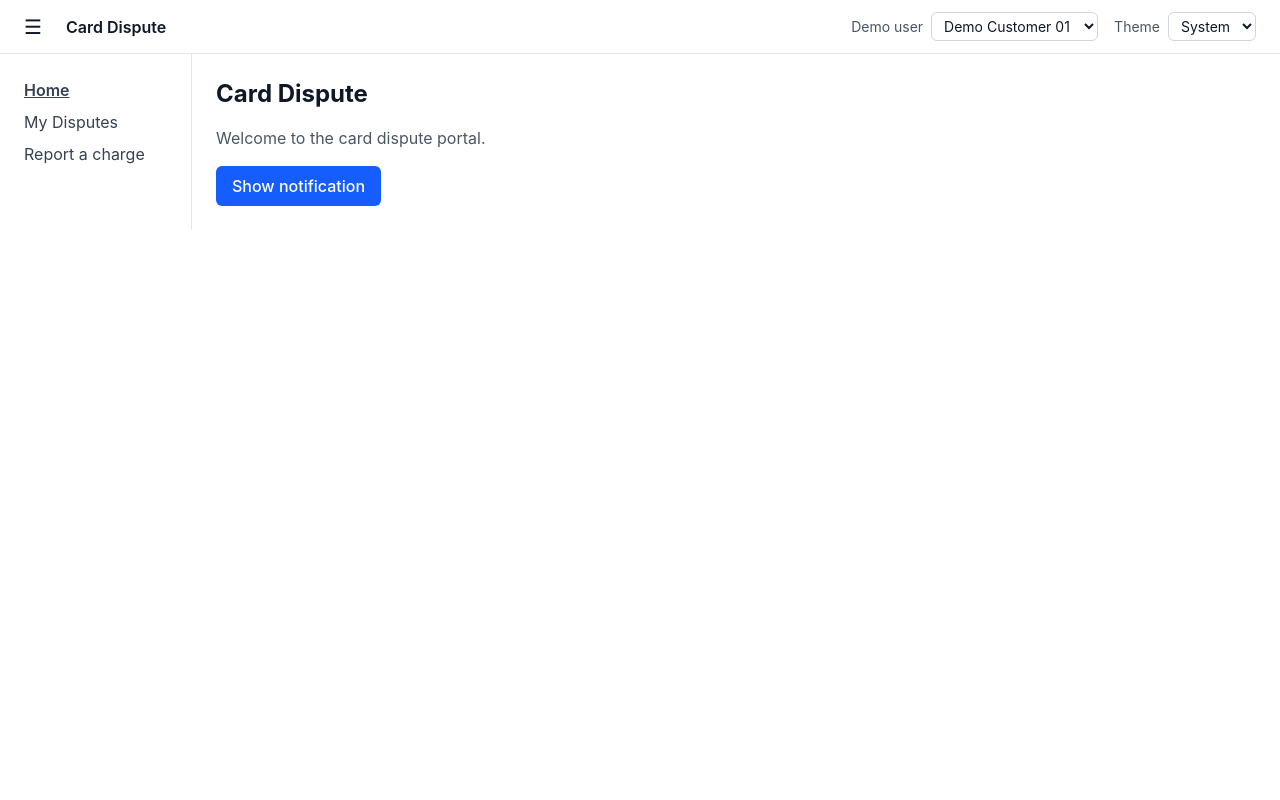
it: layout state › shows and dismisses a notification
The image size is (1280, 800).
What coordinates should you click on to do the following:
click the button "Show notification"
I would click on:
 (298, 186)
Its box is [216, 166, 381, 206].
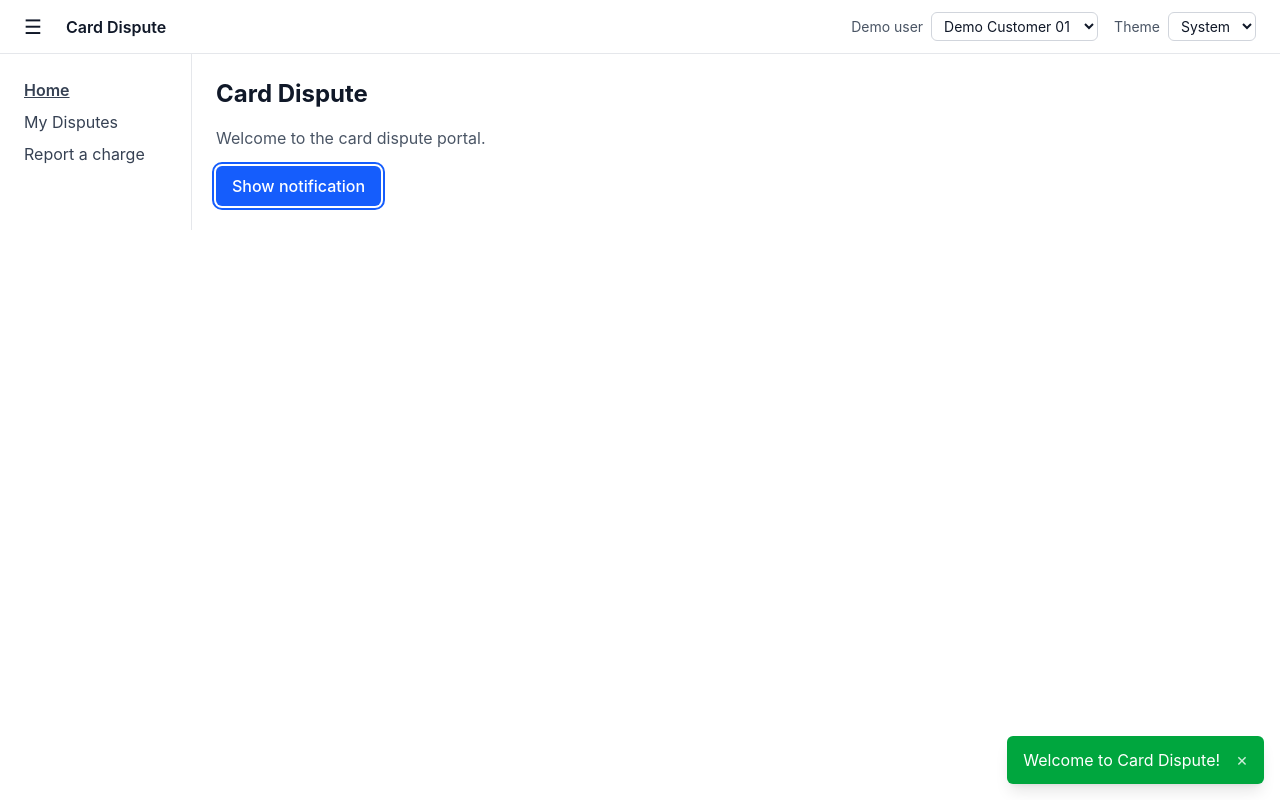
Result: the message shows "Welcome to Card Dispute!" at [1023, 750, 1220, 770]
What coordinates should you click on to do the following:
click the button named "Dismiss notification"
I would click on:
 (1242, 760)
Its box is [1236, 751, 1248, 769].
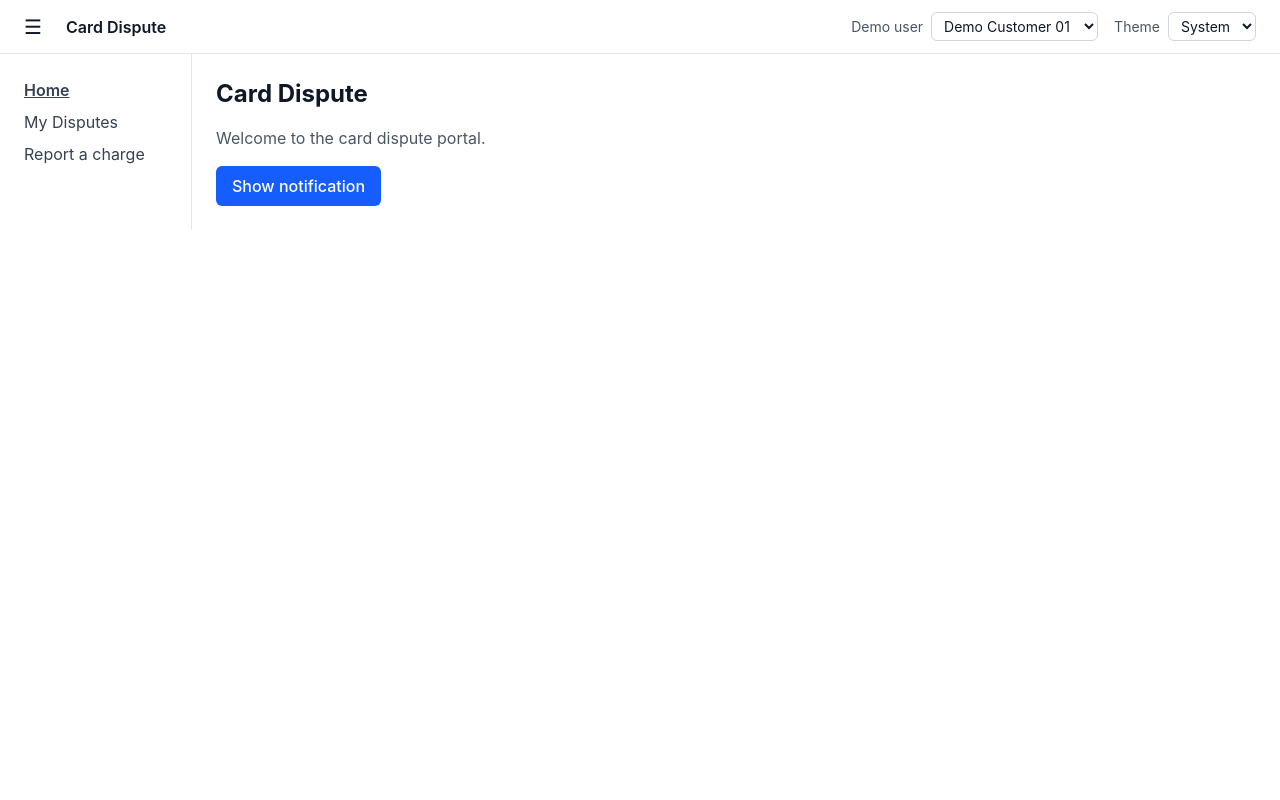
Result: the message "Welcome to Card Dispute! ×" is gone
